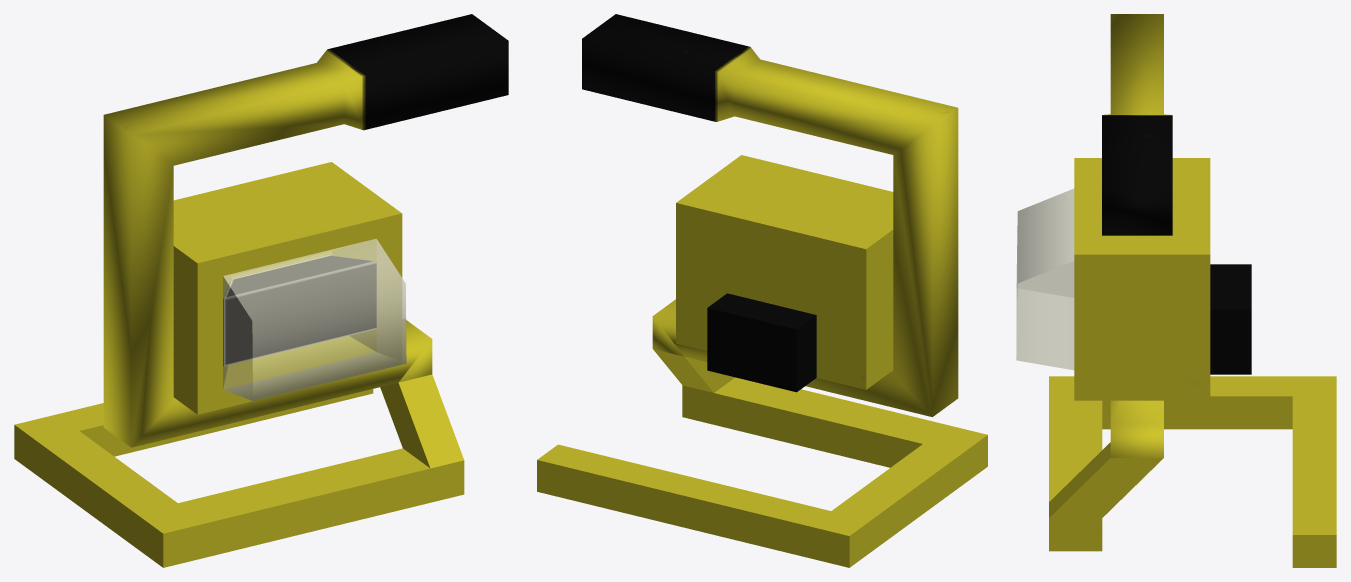
Rendered from SurroundingEnvironment_ShortWorkLamp.fbx.
The picture shows the model from 3 angles, left to right: view 1: azimuth 30°, elevation 25°; view 2: azimuth 150°, elevation 25°; view 3: azimuth 270°, elevation 25°; orthographic projection. The views are drawn at different scales.
Visible parts, largest first — view 1: SmallWorkLamp; view 2: SmallWorkLamp; view 3: SmallWorkLamp.
Part boxes in pixels (<box>): SmallWorkLamp: <box>14,14,508,567</box>; SmallWorkLamp: <box>537,14,987,567</box>; SmallWorkLamp: <box>1016,14,1336,567</box>.
Size of the model in its own units: 39 by 41.6 by 30.03.
